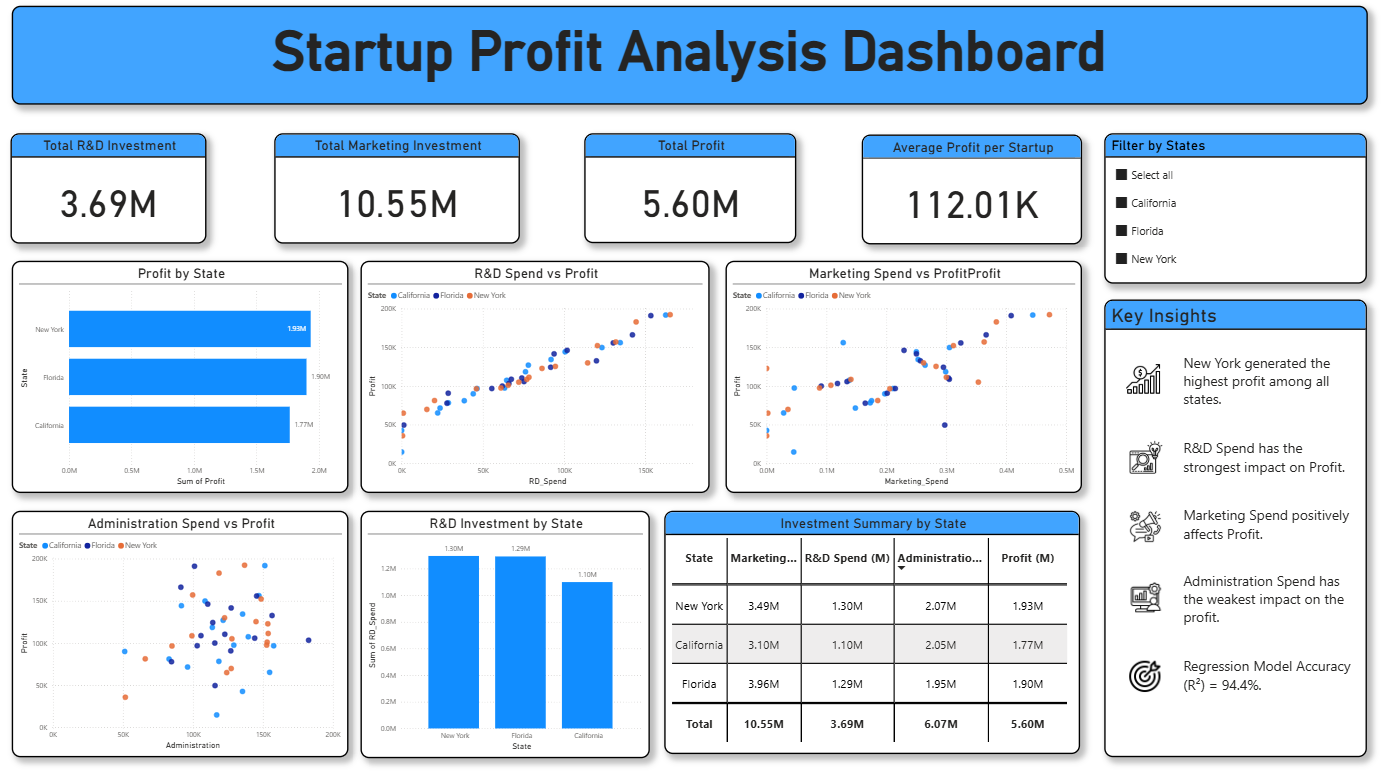

The page's visual inventory and layout, read from the dashboard file:
{"tool":"powerbi","page":{"name":"Page 1","canvas":[2400,1350],"ordinal":0},"visuals":[{"type":"textbox","title":"Key Insights","box":[1924.3,525.7,457.1,795.7],"z":0},{"type":"card","title":"Total Profit","fields":{"Values":["Sum(PA.Profit)"]},"box":[992,238,426,190],"z":1000},{"type":"card","title":"Average Profit per Startup","fields":{"Values":["Avg(PA.Profit)"]},"box":[1502,236,382,192],"z":2000},{"type":"card","title":"Total R&D Investment","fields":{"Values":["Sum(PA.RD_Spend)"]},"box":[22.5,236.7,341,191.6],"z":3000},{"type":"card","title":"Total Marketing Investment","fields":{"Values":["Sum(PA.Marketing_Spend)"]},"box":[479.7,236.7,426.9,192.3],"z":4000},{"type":"clusteredBarChart","title":"Profit by State","fields":{"Category":["PA.State"],"Y":["Sum(PA.Profit)"]},"box":[22.9,458.6,585.7,404.3],"z":5000},{"type":"scatterChart","title":"R&D Spend vs Profit","fields":{"X":["PA.RD_Spend"],"Y":["PA.Profit"],"Series":["PA.State"]},"box":[631.4,458.6,607.1,404.3],"z":6000},{"type":"scatterChart","title":"Marketing Spend vs ProfitProfit","fields":{"X":["PA.Marketing_Spend"],"Y":["PA.Profit"],"Series":["PA.State"]},"box":[1264.3,458.6,620,404.3],"z":7000},{"type":"scatterChart","title":"Administration Spend vs Profit","fields":{"X":["PA.Administration"],"Y":["PA.Profit"],"Series":["PA.State"]},"box":[22.9,892.9,585.7,428.6],"z":8000},{"type":"clusteredColumnChart","title":"R&D Investment by State","fields":{"Category":["PA.State"],"Y":["Sum(PA.RD_Spend)"]},"box":[631.4,892.9,502.9,430],"z":9000},{"type":"slicer","title":"Filter by States","fields":{"Values":["PA.State"]},"box":[1924.3,237.1,457.1,261.4],"z":10000},{"type":"textbox","box":[24,16,2358,172],"z":11000},{"type":"tableEx","title":"Investment Summary by State","fields":{"Values":["PA.State","Sum(PA.Marketing_Spend)","Sum(PA.RD_Spend)","Sum(PA.Administration)","Sum(PA.Profit)"]},"box":[1159.6,893.6,723.4,423.4],"z":12000},{"type":"image","box":[1954.8,633.3,74.1,63.2],"z":13000},{"type":"image","box":[1965.1,771.3,62.1,57.4],"z":14000},{"type":"image","box":[1962.2,893.3,64.4,55.6],"z":15000},{"type":"image","box":[1962.2,1017.8,66.7,53.3],"z":16000},{"type":"image","box":[1960,1154.4,66.7,54.4],"z":17000}]}

Visuals, with their boxes in screenshot pixels (x1, y1, x2, y2), scaled from the page's 2400x1350 canvas onto the 1385x771 screenshot:
"Key Insights" textbox: l=1110, t=300, r=1374, b=755
"Total Profit" card: l=572, t=136, r=818, b=244
"Average Profit per Startup" card: l=867, t=135, r=1087, b=244
"Total R&D Investment" card: l=13, t=135, r=210, b=245
"Total Marketing Investment" card: l=277, t=135, r=523, b=245
"Profit by State" clusteredBarChart: l=13, t=262, r=351, b=493
"R&D Spend vs Profit" scatterChart: l=364, t=262, r=715, b=493
"Marketing Spend vs ProfitProfit" scatterChart: l=730, t=262, r=1087, b=493
"Administration Spend vs Profit" scatterChart: l=13, t=510, r=351, b=755
"R&D Investment by State" clusteredColumnChart: l=364, t=510, r=655, b=756
"Filter by States" slicer: l=1110, t=135, r=1374, b=285
textbox: l=14, t=9, r=1375, b=107
"Investment Summary by State" tableEx: l=669, t=510, r=1087, b=752
image: l=1128, t=362, r=1171, b=398
image: l=1134, t=440, r=1170, b=473
image: l=1132, t=510, r=1170, b=542
image: l=1132, t=581, r=1171, b=612
image: l=1131, t=659, r=1170, b=690
